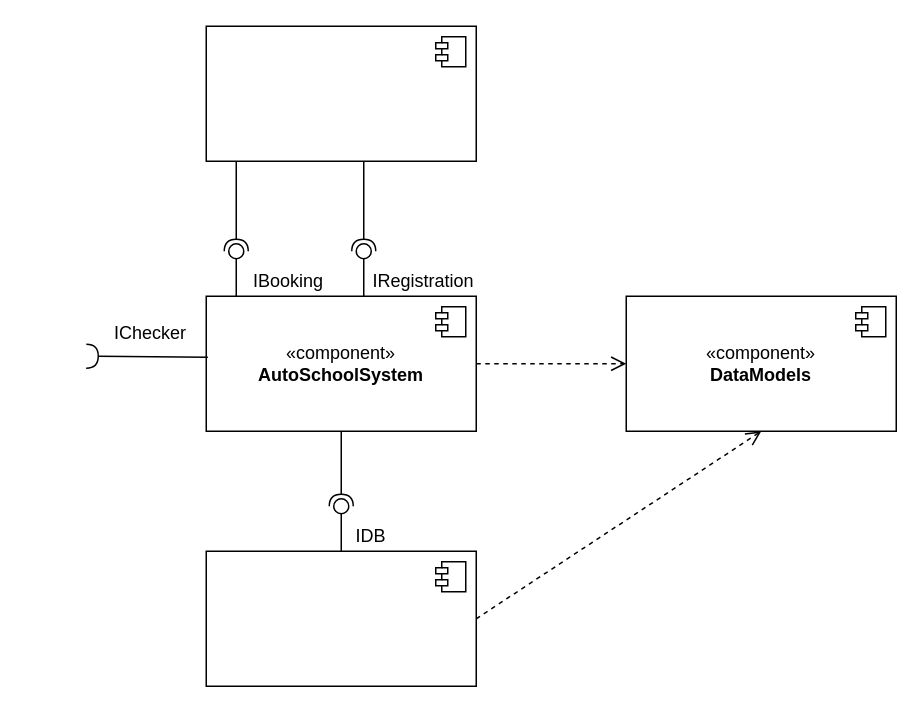
Some shapes in this 923 by 713 pixel diagram are drawn without their labels. The shapes that lost their labels are listed below. From the top down, each one's centre as x and y in pixels, then its label:
At (x=340, y=93): "«component» UI".
At (x=340, y=618): "«component» DBManage".
